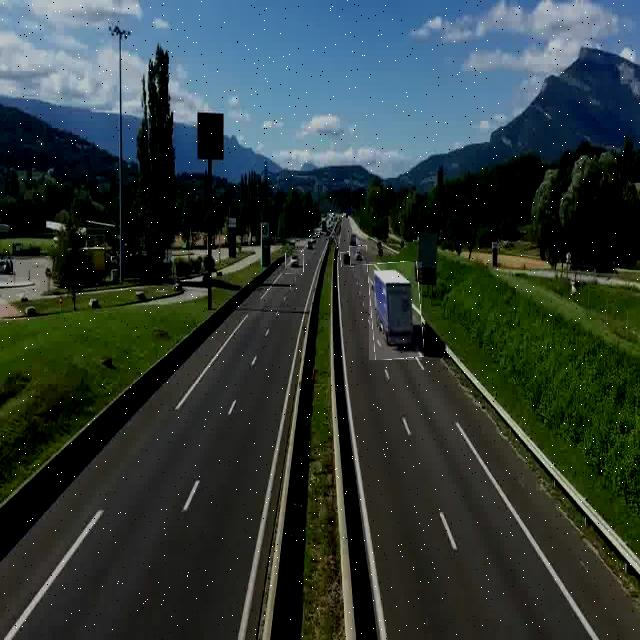Car: (286, 250, 304, 274), (350, 246, 367, 265), (341, 252, 354, 267)
Truck: (369, 262, 422, 360)
